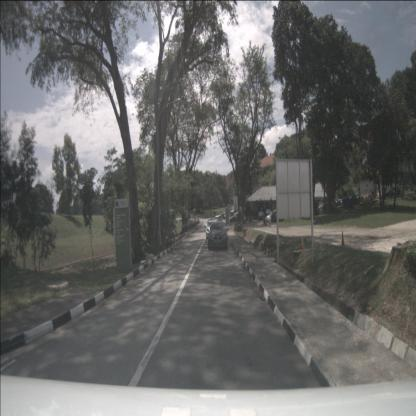movable_object-trafficcone: (340, 231, 346, 246), (300, 237, 306, 251), (265, 247, 269, 256)
vehicle-car: (208, 222, 228, 250), (206, 220, 217, 239), (214, 215, 222, 223)
